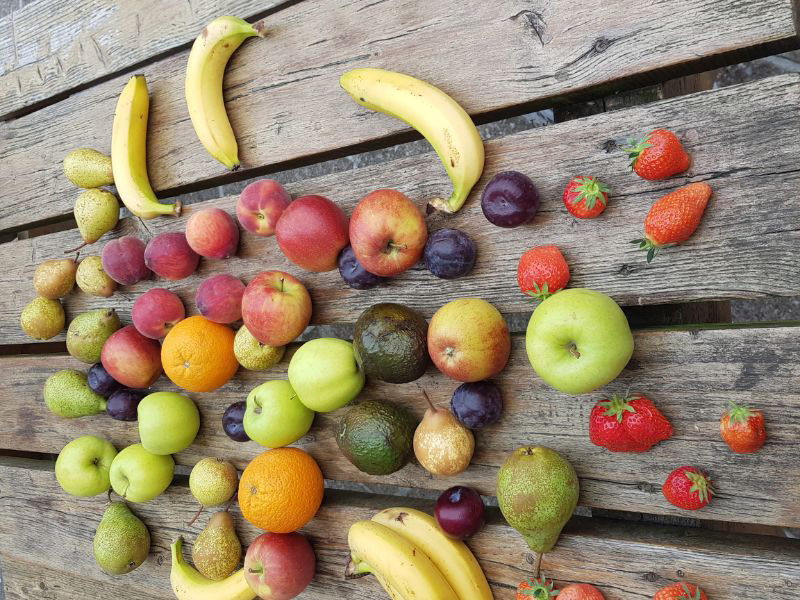banana: (167, 12, 279, 168)
strawberry: (632, 182, 719, 260), (583, 395, 679, 454), (627, 125, 695, 182), (655, 460, 721, 512), (713, 405, 770, 456), (561, 170, 611, 222)
